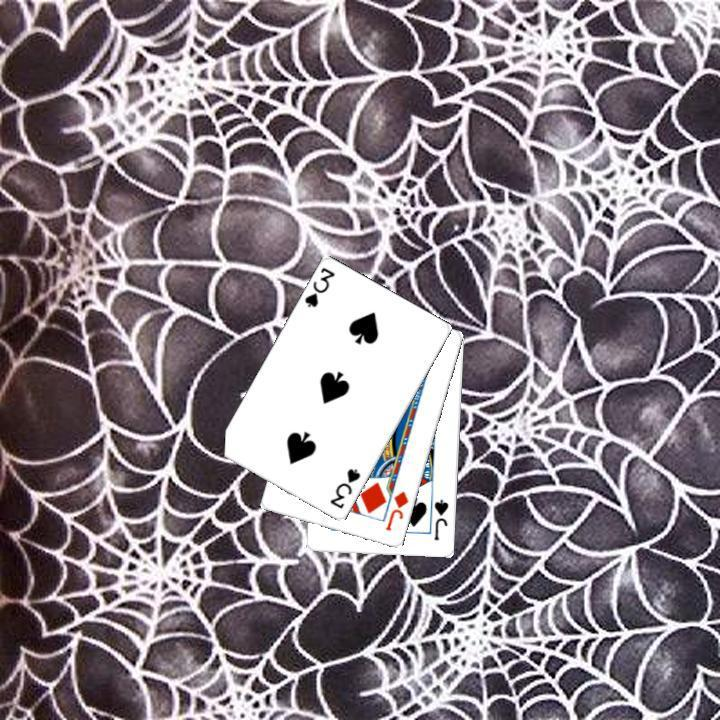3: (326, 464, 363, 511), (300, 263, 337, 310)
J: (381, 487, 411, 533), (430, 495, 451, 542)
